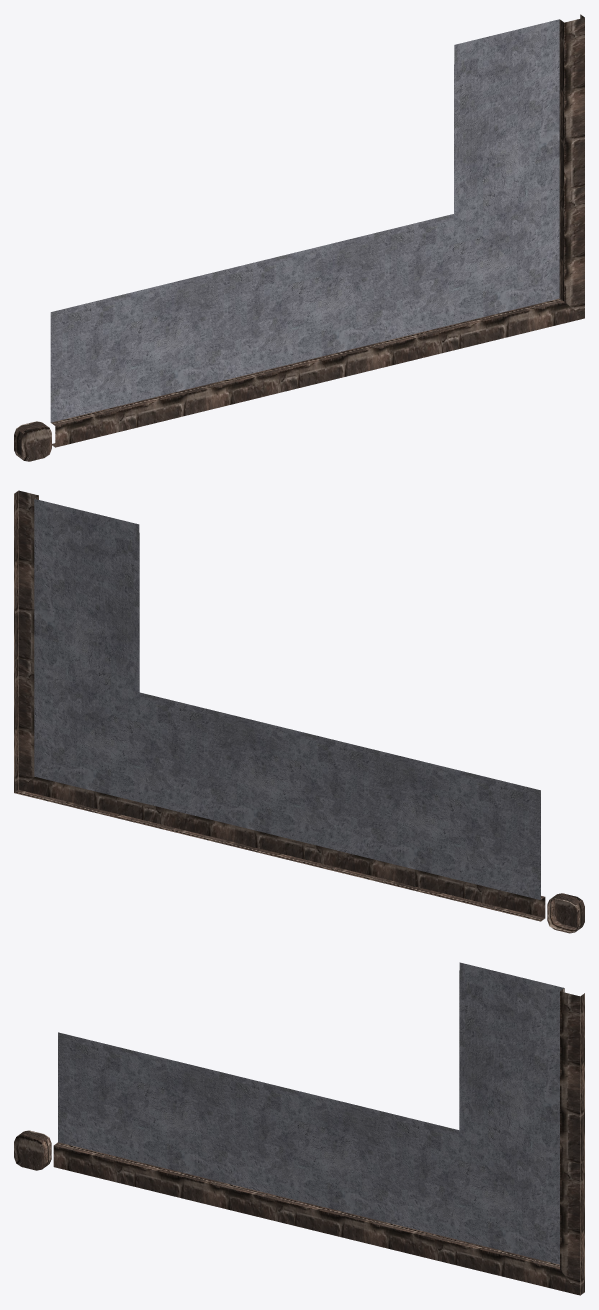
Rendered from roads.fbx.
3 views of the same model, one above another, from view 1: azimuth 30°, elevation 25°; view 2: azimuth 150°, elevation 25°; view 3: azimuth 330°, elevation 25° (orthographic).
Parts seen in each view (by area): view 1: road_2, road_1, road_1.001, road_1.002; view 2: road_2, road_1, road_1.001, road_1.002; view 3: road_2, road_1, road_1.001, road_1.002.
Part boxes in pixels (bbox=[...]): road_2: bbox=[292, 14, 584, 388]; road_1: bbox=[131, 253, 297, 427]; road_1.001: bbox=[50, 292, 135, 447]; road_1.002: bbox=[14, 421, 51, 461]; road_2: bbox=[14, 490, 304, 862]; road_1: bbox=[300, 731, 465, 901]; road_1.001: bbox=[460, 771, 545, 921]; road_1.002: bbox=[547, 893, 584, 933]; road_2: bbox=[294, 962, 584, 1295]; road_1: bbox=[133, 1052, 298, 1225]; road_1.001: bbox=[53, 1032, 138, 1186]; road_1.002: bbox=[14, 1130, 51, 1170].
Size of the model in its own units: 702 by 362 by 16.52.
